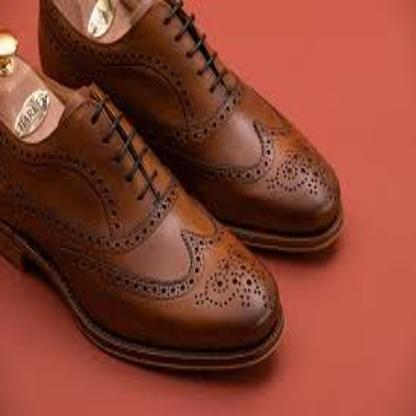not trash: (0, 0, 346, 371)
